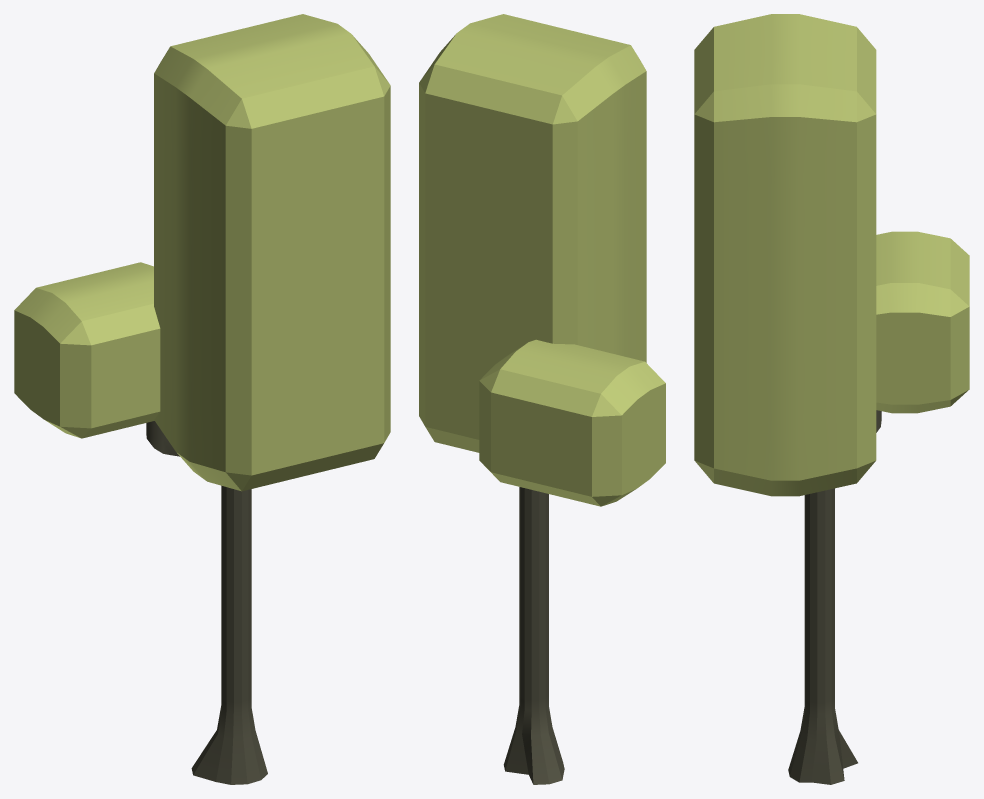
File: HighTree3.fbx
3 views of the same model, side by side, from view 1: azimuth 30°, elevation 25°; view 2: azimuth 150°, elevation 25°; view 3: azimuth 270°, elevation 25° (orthographic). The views are drawn at different scales.
Visible parts, largest first — view 1: Crown_Big, Crown_Sml, Bark; view 2: Crown_Big, Crown_Sml, Bark; view 3: Crown_Big, Crown_Sml, Bark.
Part boxes in pixels (x1,y1,x2,y2): Crown_Big: (154,14,390,491); Crown_Sml: (14,262,160,438); Bark: (146,421,267,784); Crown_Big: (419,14,646,452); Crown_Sml: (479,339,665,506); Bark: (503,487,564,784); Crown_Big: (694,14,876,496); Crown_Sml: (876,231,969,413); Bark: (788,410,881,784).
Bounding box in the file's own units: 2.65 × 7.01 × 2.39.
